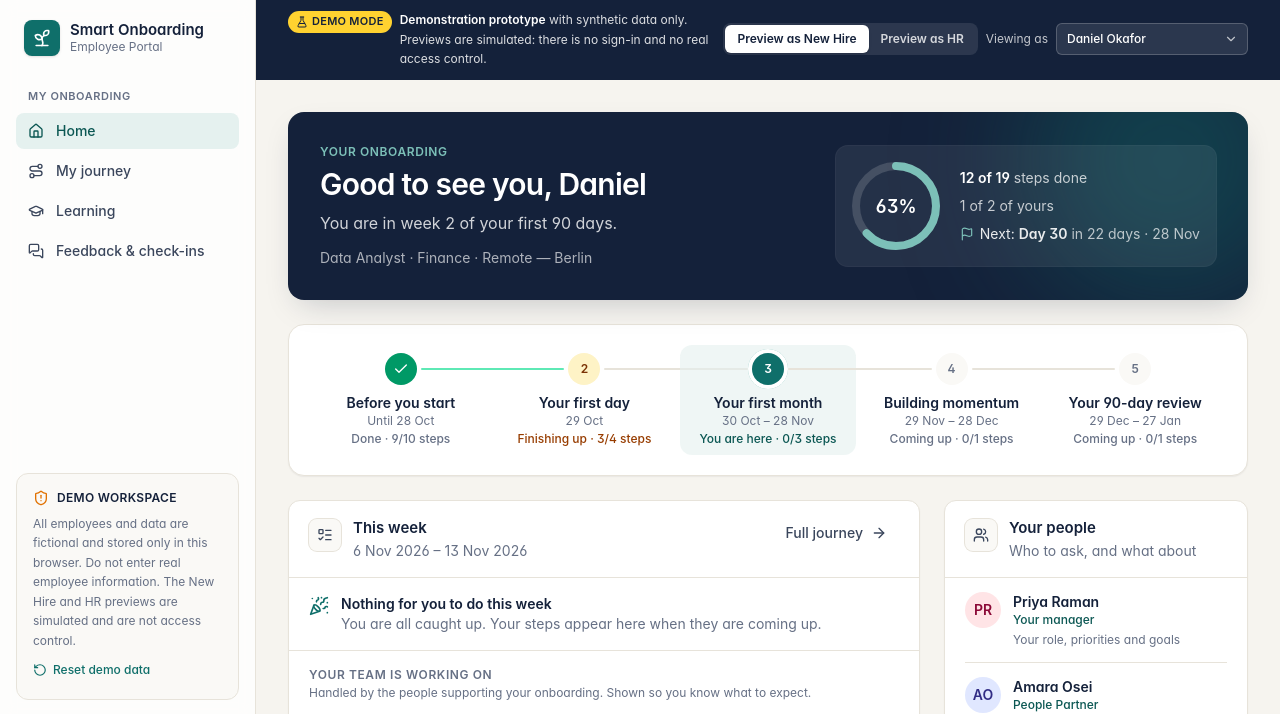
Employee portal home › shows other stakeholders' steps read-only, without internal blocker notes
Select "Maya Lindqvist" in the dropdown labelled "Viewing as" at (1152, 39), box [1056,23,1248,55]
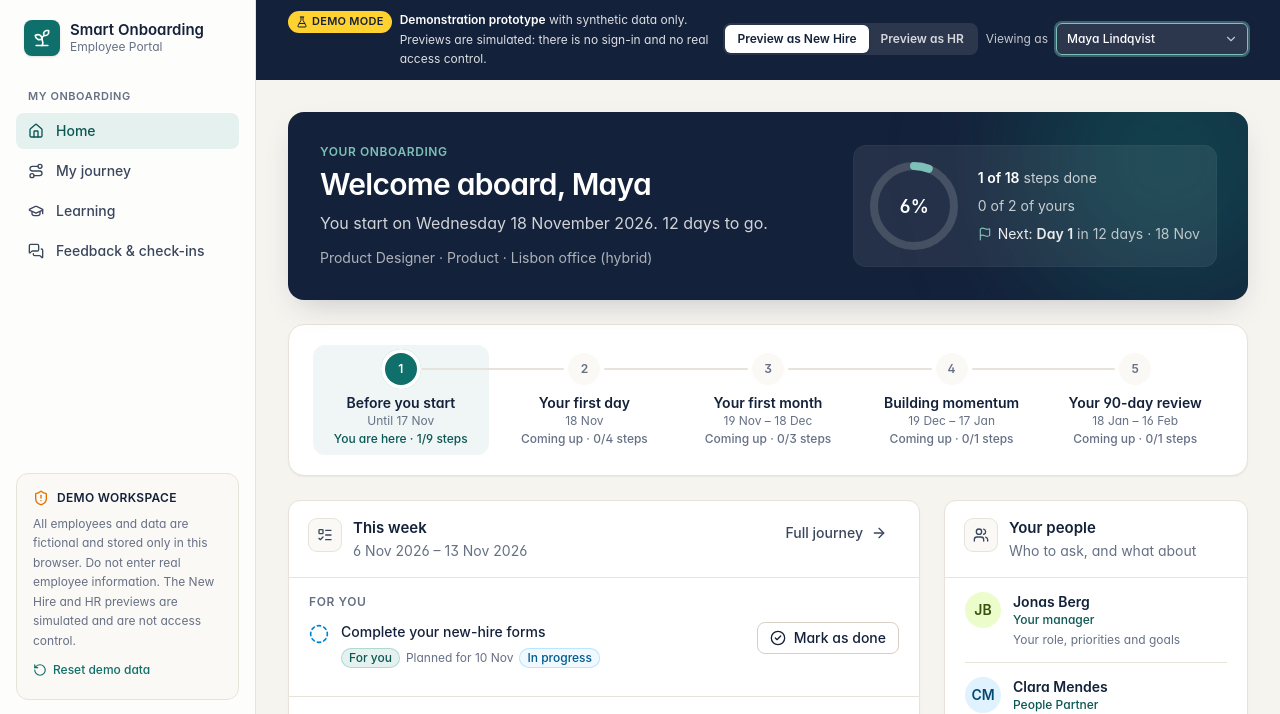
Check: the heading "Welcome aboard, Maya" is shown, box [320,166,651,202]
Check: the button with aria-label "Mark “Complete your new-hire forms” as done" is shown, box [757,622,899,654]
